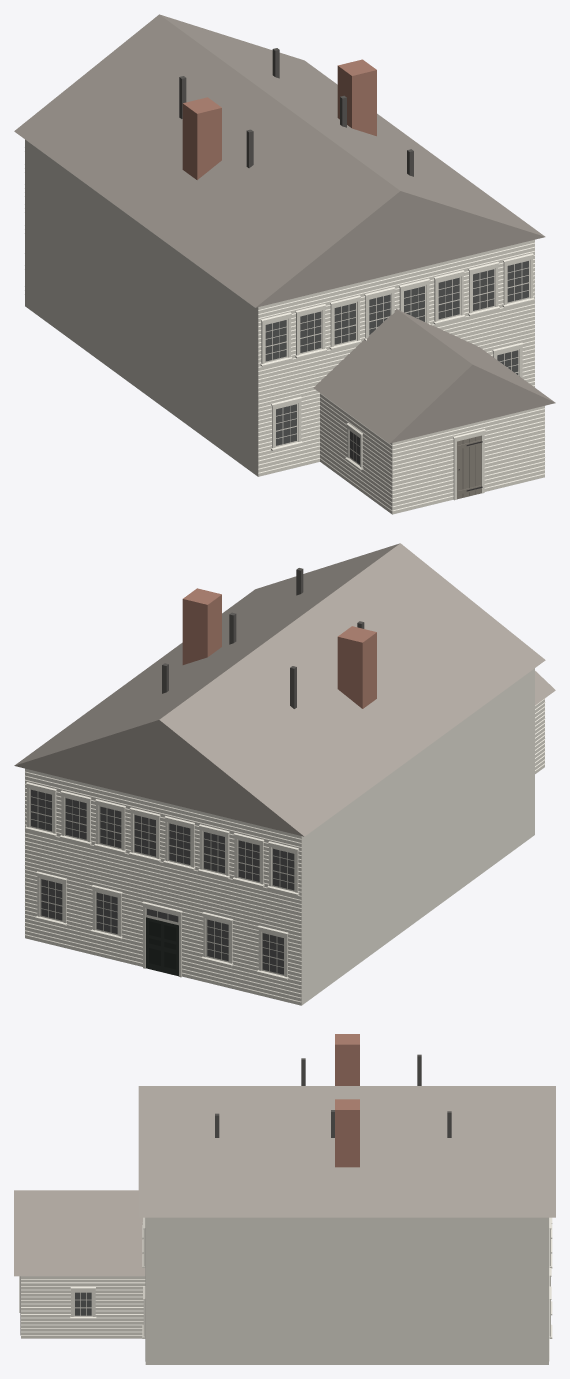
File: recon_1835_blk_washington_clark_h3_06__inferred_1835.glb
3 renders of one model, top to bottom at view 1: azimuth 30°, elevation 25°; view 2: azimuth 150°, elevation 25°; view 3: azimuth 270°, elevation 25°, orthographic. The views are drawn at different scales.
Parts seen in each view (by area): view 1: recon_1835_blk_washington_clark_h3_06__inferred_1835; view 2: recon_1835_blk_washington_clark_h3_06__inferred_1835; view 3: recon_1835_blk_washington_clark_h3_06__inferred_1835.
Part boxes in pixels (x1,y1,x2,y2): recon_1835_blk_washington_clark_h3_06__inferred_1835: [14, 14, 555, 514]; recon_1835_blk_washington_clark_h3_06__inferred_1835: [14, 543, 555, 1005]; recon_1835_blk_washington_clark_h3_06__inferred_1835: [14, 1034, 555, 1364].
Size of the model in its own units: 10.46 by 9.33 by 19.55.
